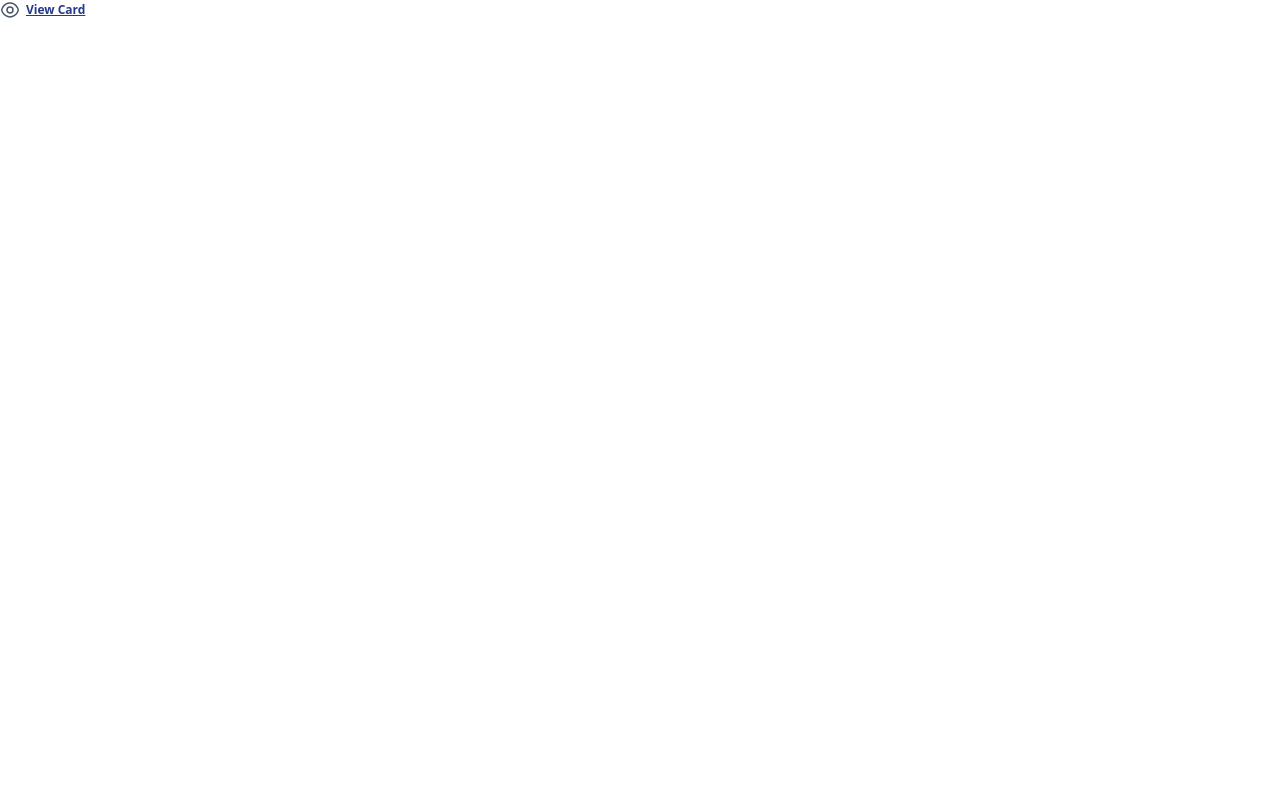
Test case: UniversityCardModal component › renders fallback UI when cardPath is missing
Click the button "View Card". click: x=43, y=10
box: [0,0,85,20]
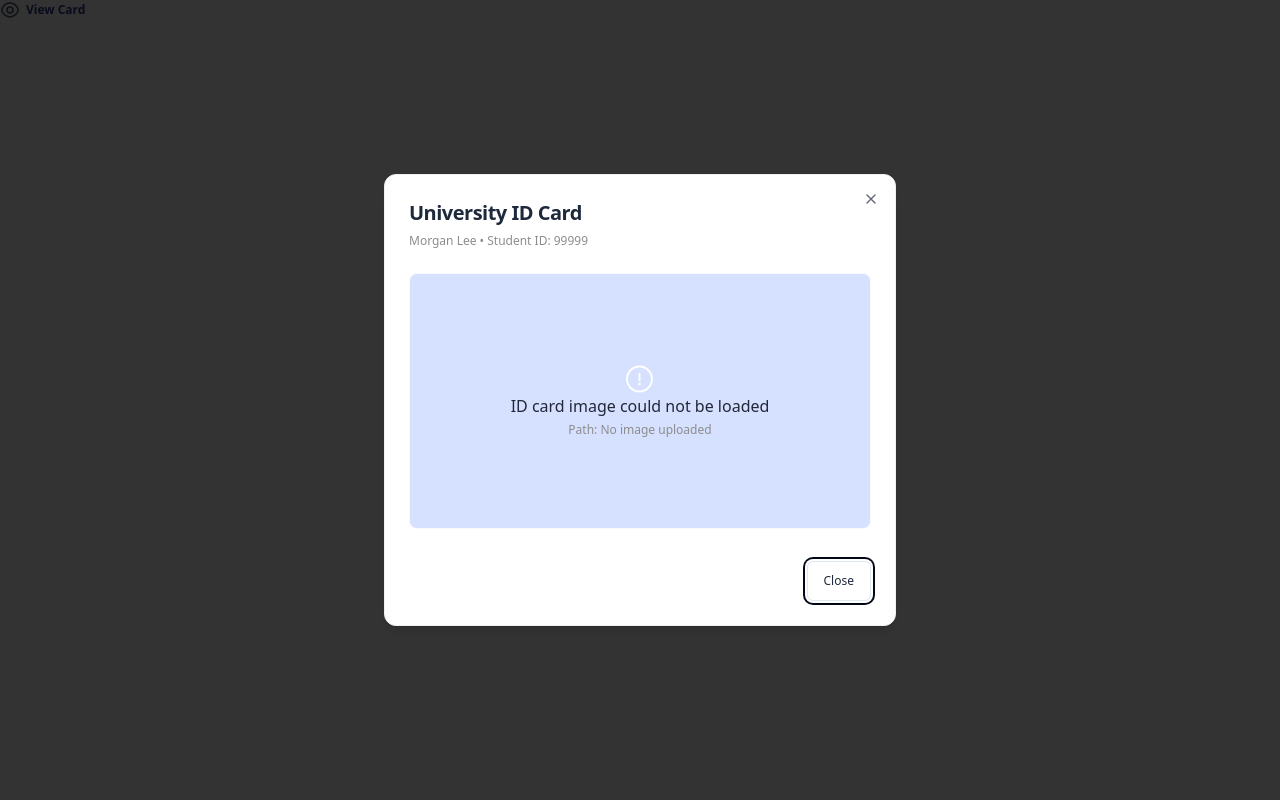
Now the text "ID card image could not be loaded" is shown, box [511,394,769,418]
Now the text "Path: No image uploaded" is shown, box [568,422,712,438]
